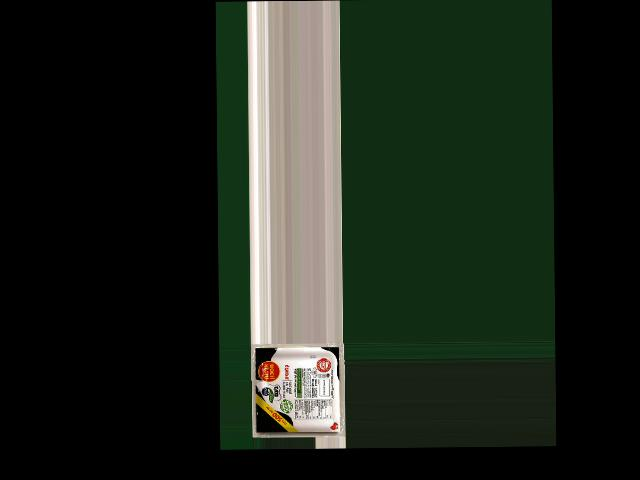cheese: (257, 346, 337, 437)
